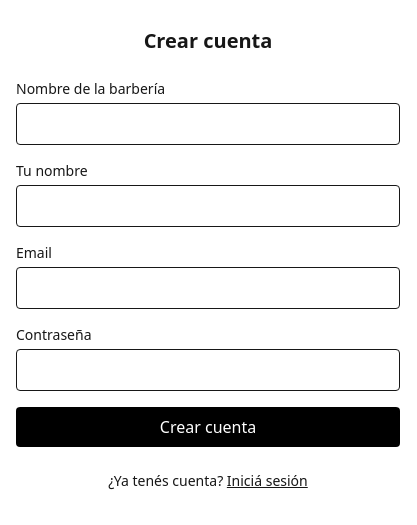
Test case: RegistroPage › muestra el mensaje de error si el correo ya está registrado
In the field labelled "Nombre de la barbería": x=208, y=124 [16,103,400,145], type "Barbería Central"
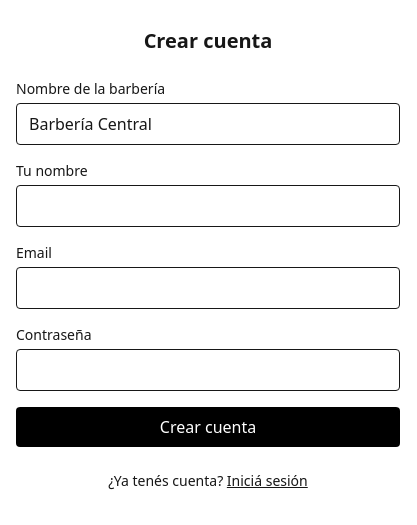
In the field labelled "Tu nombre": x=208, y=206 [16,185,400,227], type "Juan Pérez"
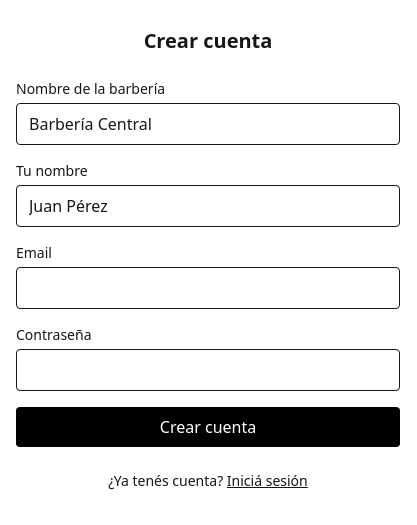
In the field labelled "Email": x=208, y=288 [16,267,400,309], type "juan@test.com"
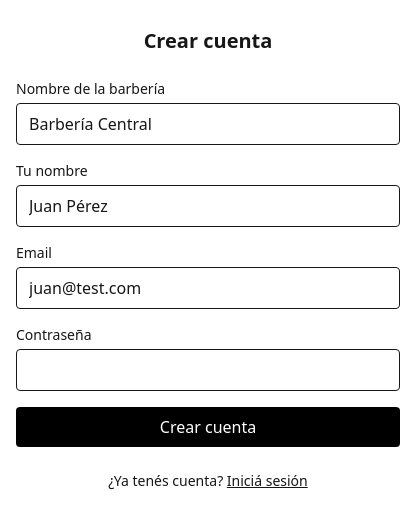
In the password field labelled "Contraseña": x=208, y=370 [16,349,400,391], type "123456"
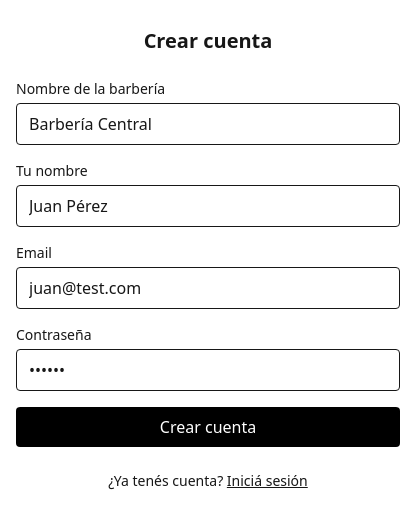
Click the button "Crear cuenta": x=208, y=427 [16,407,400,447]
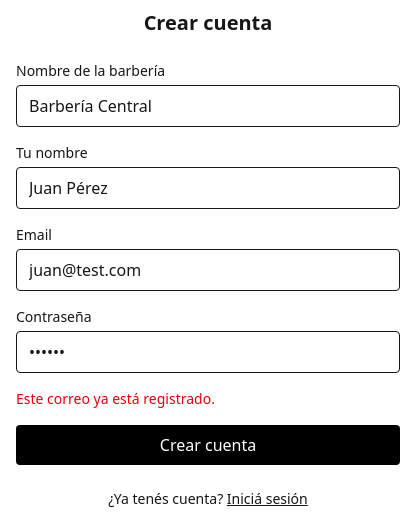
Result: the text "Este correo ya está registrado." is shown at [16,389,215,408]
